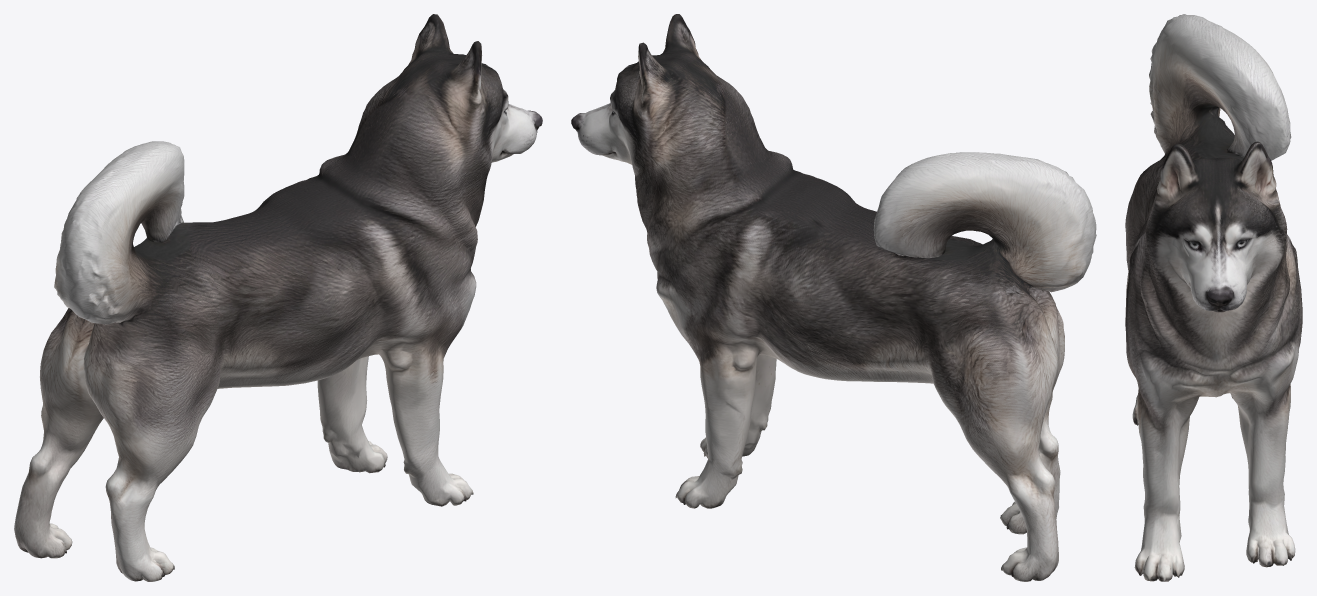
File: husky.glb
The picture shows the model from 3 angles, left to right: view 1: azimuth 30°, elevation 25°; view 2: azimuth 150°, elevation 25°; view 3: azimuth 270°, elevation 25°; orthographic projection. The views are drawn at different scales.
Parts seen in each view (by area): view 1: tripo_node_b027b72e-4ae6-4d4c-bac9-6c8d0e1943be; view 2: tripo_node_b027b72e-4ae6-4d4c-bac9-6c8d0e1943be; view 3: tripo_node_b027b72e-4ae6-4d4c-bac9-6c8d0e1943be.
Boxes of the visible parts, <box> form: tripo_node_b027b72e-4ae6-4d4c-bac9-6c8d0e1943be: <box>14,14,542,581</box>; tripo_node_b027b72e-4ae6-4d4c-bac9-6c8d0e1943be: <box>571,14,1096,581</box>; tripo_node_b027b72e-4ae6-4d4c-bac9-6c8d0e1943be: <box>1125,14,1302,581</box>.
Bounding box in the file's own units: 1 × 0.8308 × 0.2974.
1 material, 1 textured.
